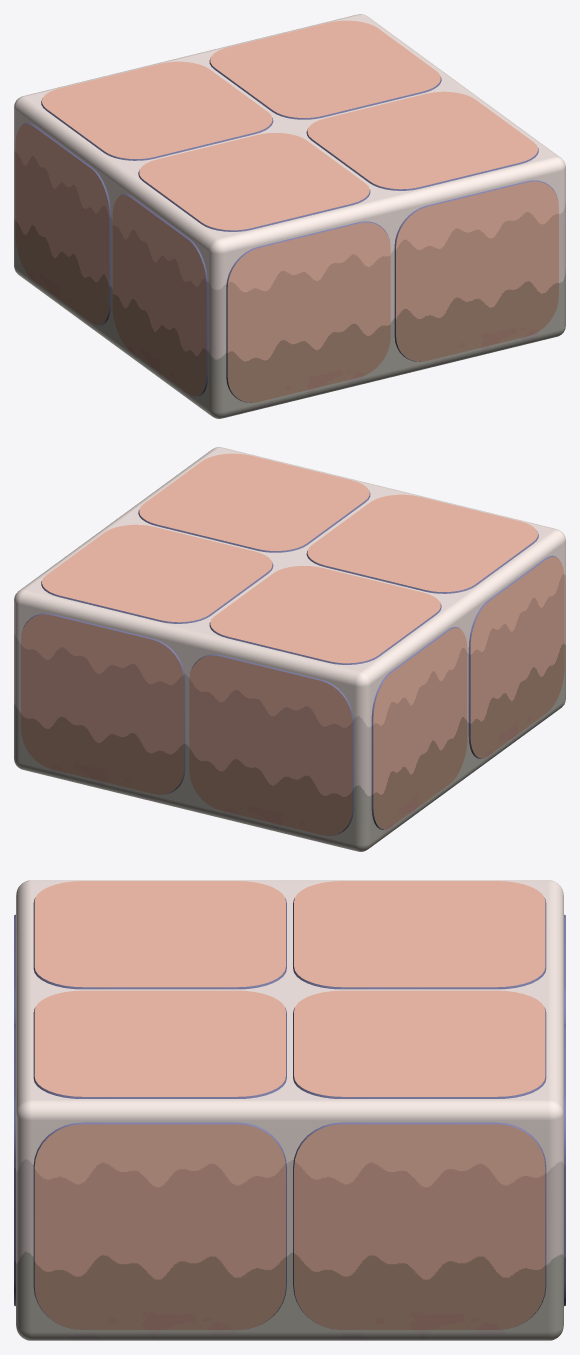
Rendered from R4B_Slab2x2.glb.
3 renders of one model, top to bottom at view 1: azimuth 30°, elevation 25°; view 2: azimuth 150°, elevation 25°; view 3: azimuth 270°, elevation 25°, orthographic. The views are drawn at different scales.
Parts seen in each view (by area): view 1: R4B_Slab2x2; view 2: R4B_Slab2x2; view 3: R4B_Slab2x2.
Boxes of the visible parts, x1,y1,x2,y2 form: R4B_Slab2x2: [14, 14, 565, 418]; R4B_Slab2x2: [14, 447, 565, 851]; R4B_Slab2x2: [14, 880, 565, 1340].
Bounding box in the file's own units: 1.07 × 0.52 × 1.07.
Materials: 3 (3 with a texture image).
